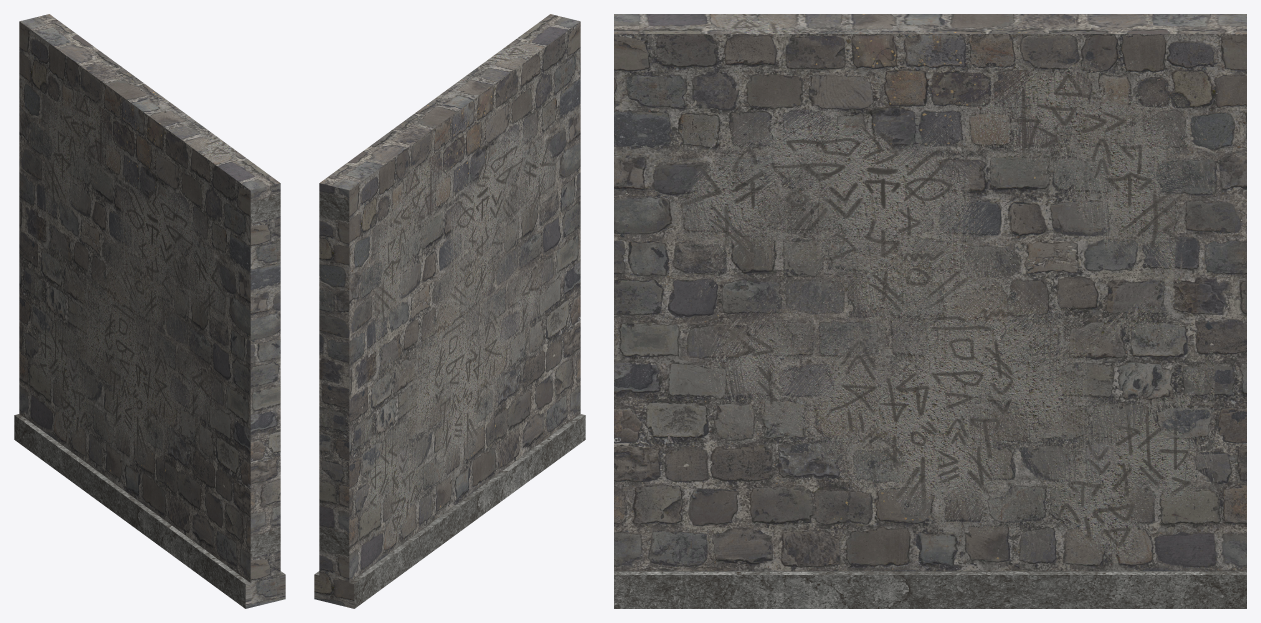
File: Wall_3.fbx
3 renders of one model, left to right at view 1: azimuth 30°, elevation 25°; view 2: azimuth 150°, elevation 25°; view 3: azimuth 270°, elevation 25°, orthographic. The views are drawn at different scales.
Visible parts, largest first — view 1: wall.002; view 2: wall.002; view 3: wall.002.
Part boxes in pixels (x1,y1,x2,y2): wall.002: (14, 14, 285, 608); wall.002: (314, 14, 585, 608); wall.002: (614, 14, 1246, 608).
Bounding box in the file's own units: 40 × 399 × 400.
Materials: 1 (1 with a texture image).
